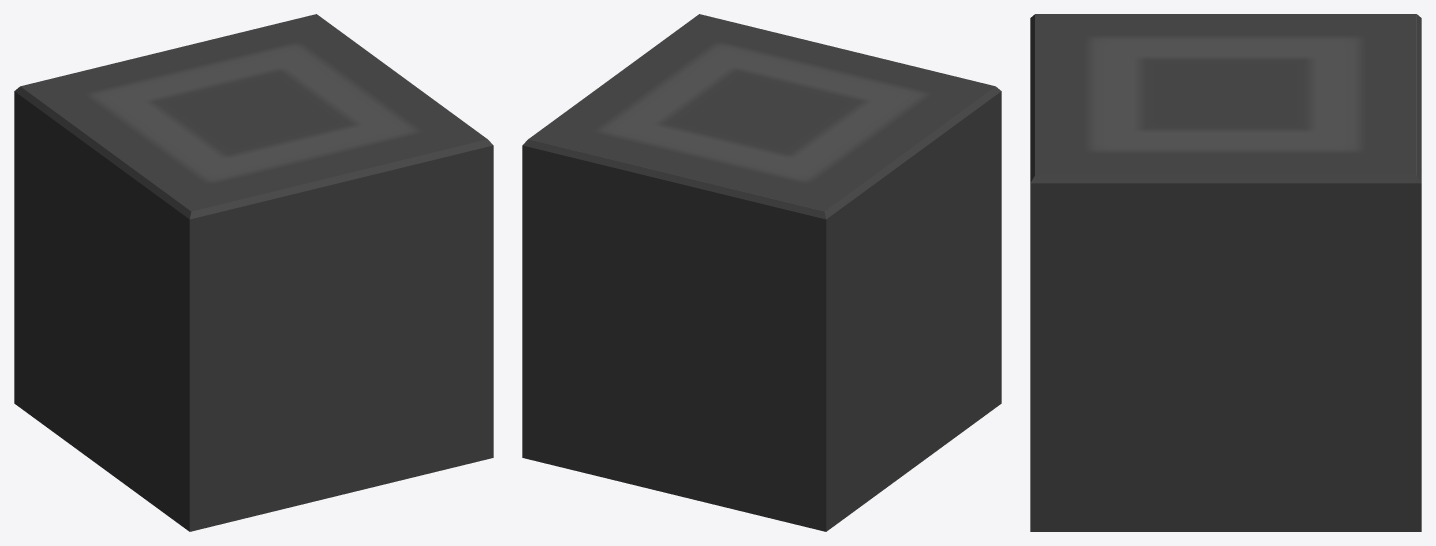
File: diji03.FBX
The picture shows the model from 3 angles, left to right: view 1: azimuth 30°, elevation 25°; view 2: azimuth 150°, elevation 25°; view 3: azimuth 270°, elevation 25°; orthographic projection. The views are drawn at different scales.
Parts seen in each view (by area): view 1: diji03; view 2: diji03; view 3: diji03.
Part boxes in pixels (x1,y1,x2,y2): diji03: (14,14,493,531); diji03: (522,14,1001,531); diji03: (1030,14,1421,531).
Size of the model in its own units: 100 by 100 by 100.
